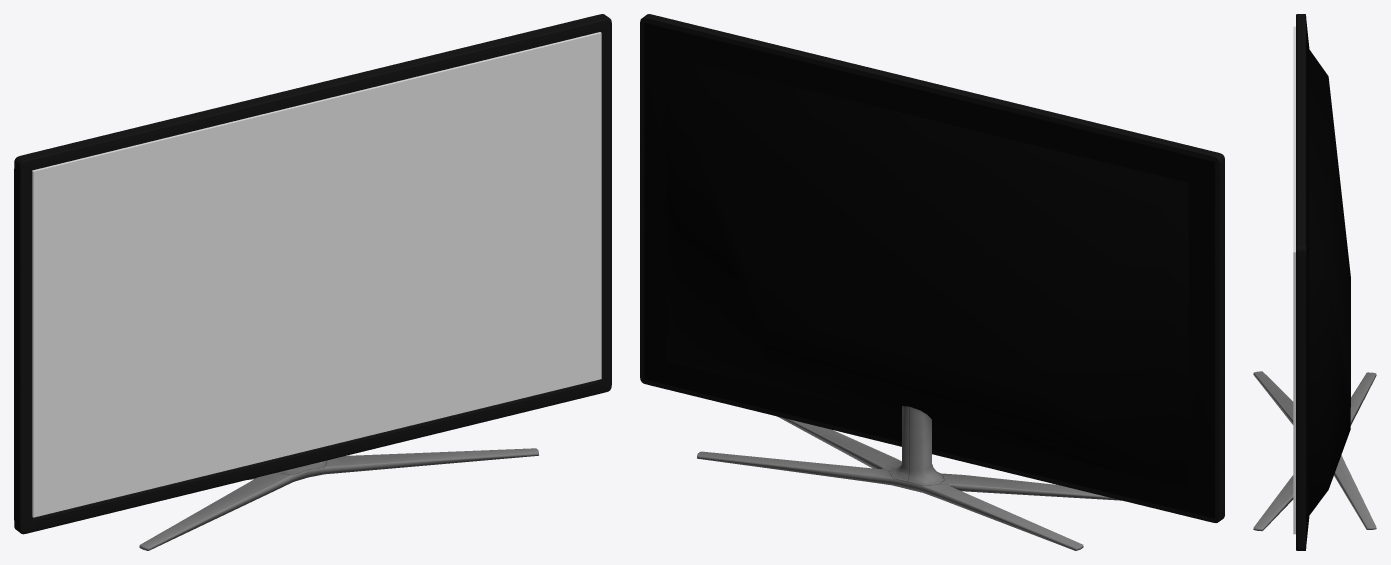
Rendered from 2010_flat_screen_tv.glb.
The picture shows the model from 3 angles, left to right: view 1: azimuth 30°, elevation 25°; view 2: azimuth 150°, elevation 25°; view 3: azimuth 270°, elevation 25°; orthographic projection. The views are drawn at different scales.
Visible parts, largest first — view 1: Cube, screenMaterial; view 2: screenMaterial; view 3: screenMaterial, Cube.
Boxes of the visible parts, x1,y1,x2,y2 form: Cube: (32,32,601,517); screenMaterial: (14,14,611,550); screenMaterial: (640,14,1224,550); screenMaterial: (1253,14,1376,550); Cube: (1293,26,1295,534).
Bounding box in the file's own units: 1.14 × 0.7287 × 0.2528.
Materials: 1 (1 with a texture image).
